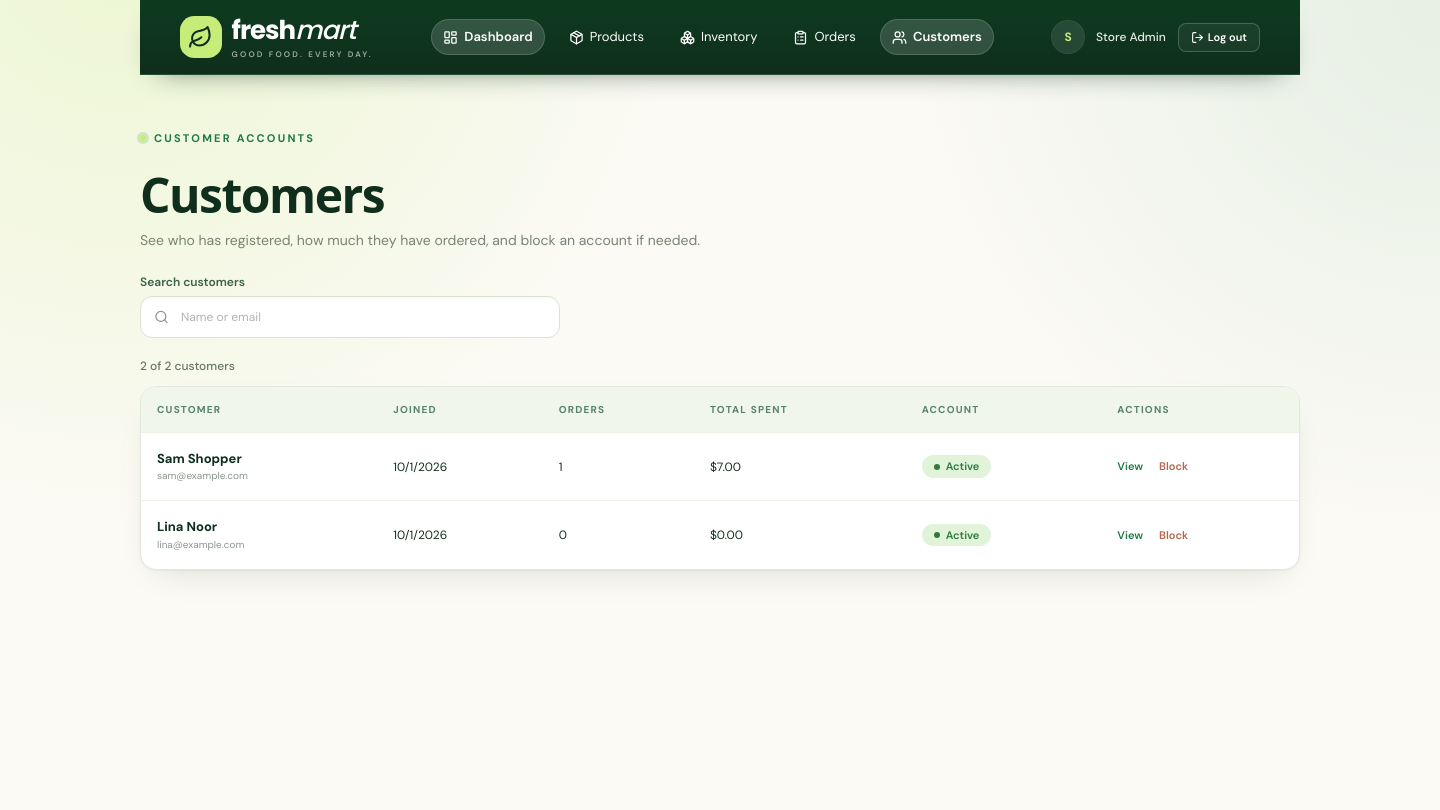
Test: Sprint 4: admin screens › customer details open as a separate admin page
The width and height of the screenshot is (1440, 810).
Expected: the text "Sam Shopper" is shown, x1=157 y1=450 x2=242 y2=467
Step 1. Click the link with aria-label "View Sam Shopper" → (1130, 467), box x1=1117 y1=459 x2=1143 y2=474
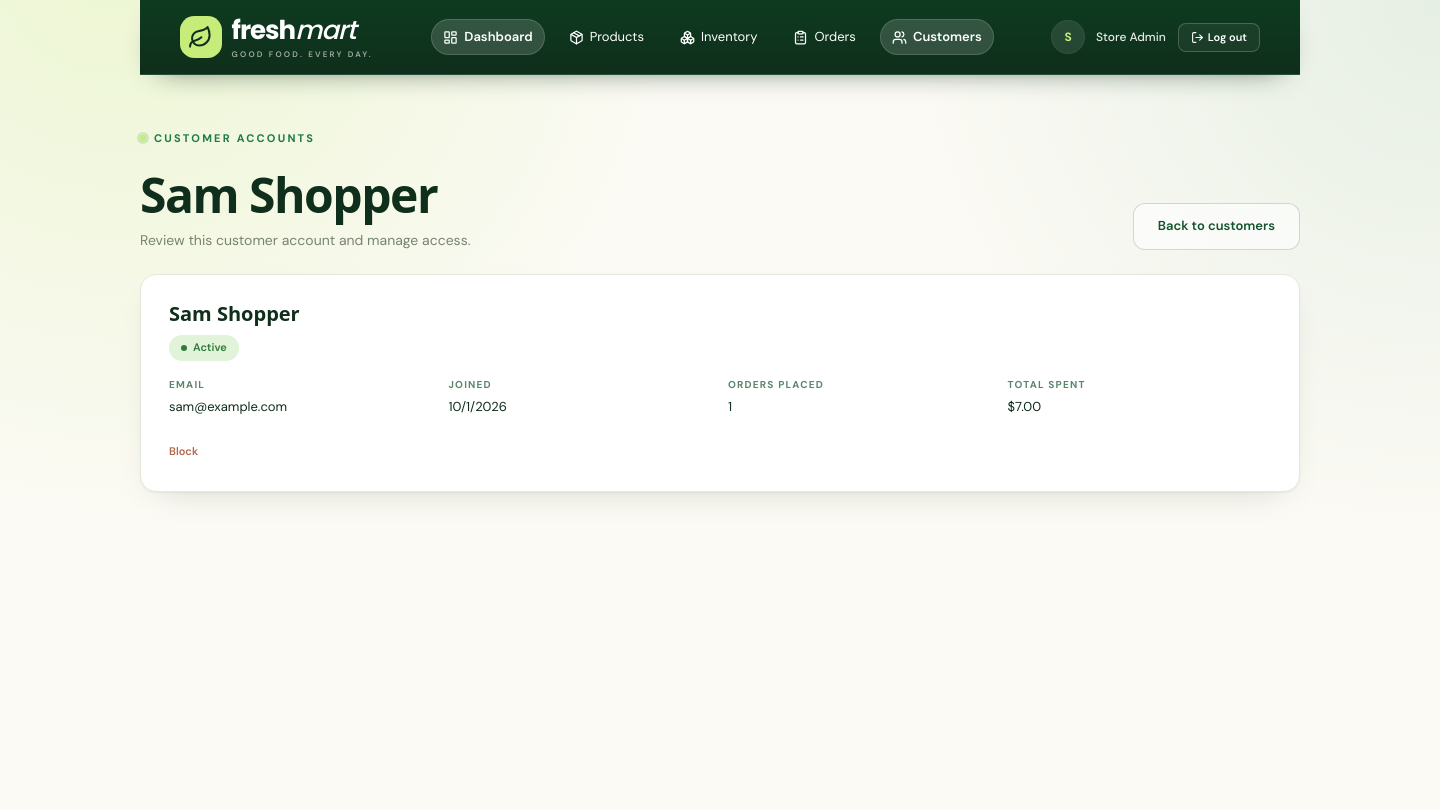
Expected: the element named "Details for Sam Shopper" is shown, x1=140 y1=274 x2=1300 y2=492
